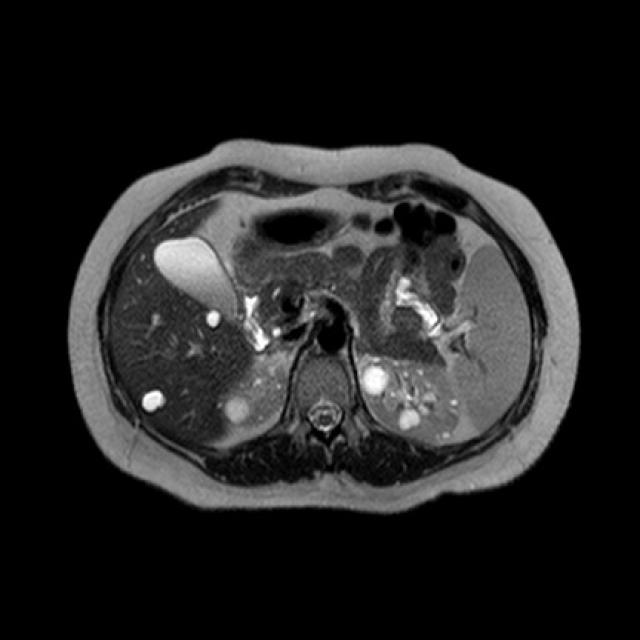sag: (217, 352, 291, 441)
sol: (358, 355, 463, 443)
